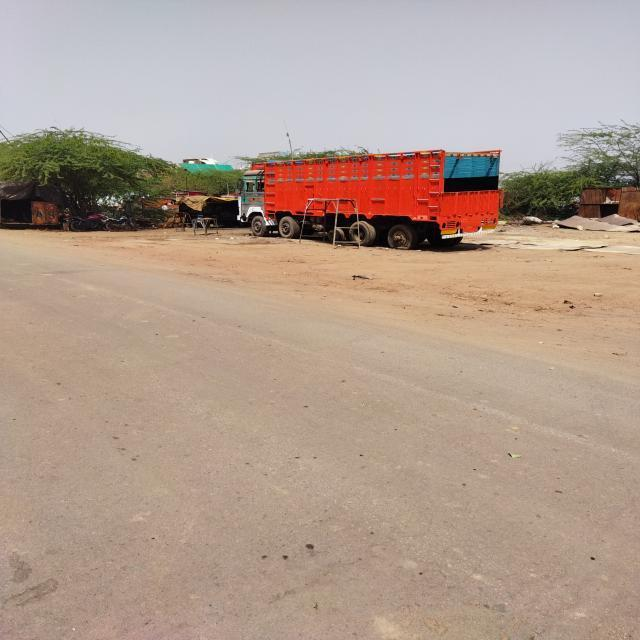truck_back: (238, 140, 504, 248)
